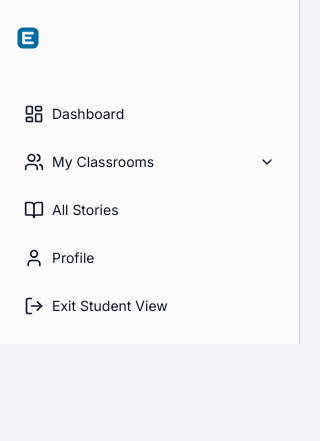
Test: StudentSidebar › shows and retries a failed classroom list
Click the button "My Classrooms": (150,162) [16,140,283,184]
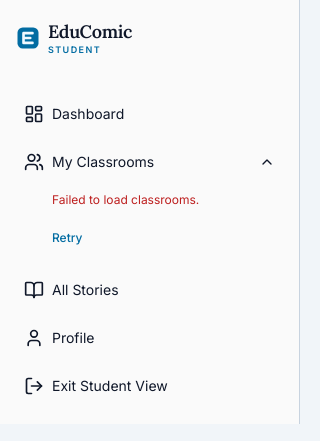
Expected: the message shows "Failed to load classrooms", [52,192,199,207]
Click the button with aria-label "Retry classrooms": (67,238) [52,216,82,260]
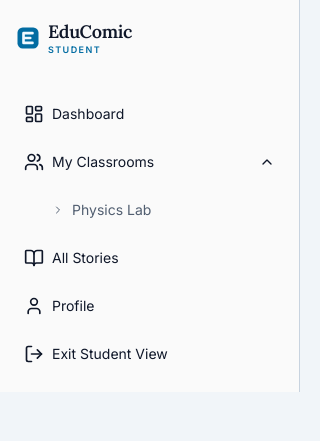
Expected: the link "Physics Lab" is shown, [52,201,151,218]
Expected: the message "Failed to load classrooms." is gone
